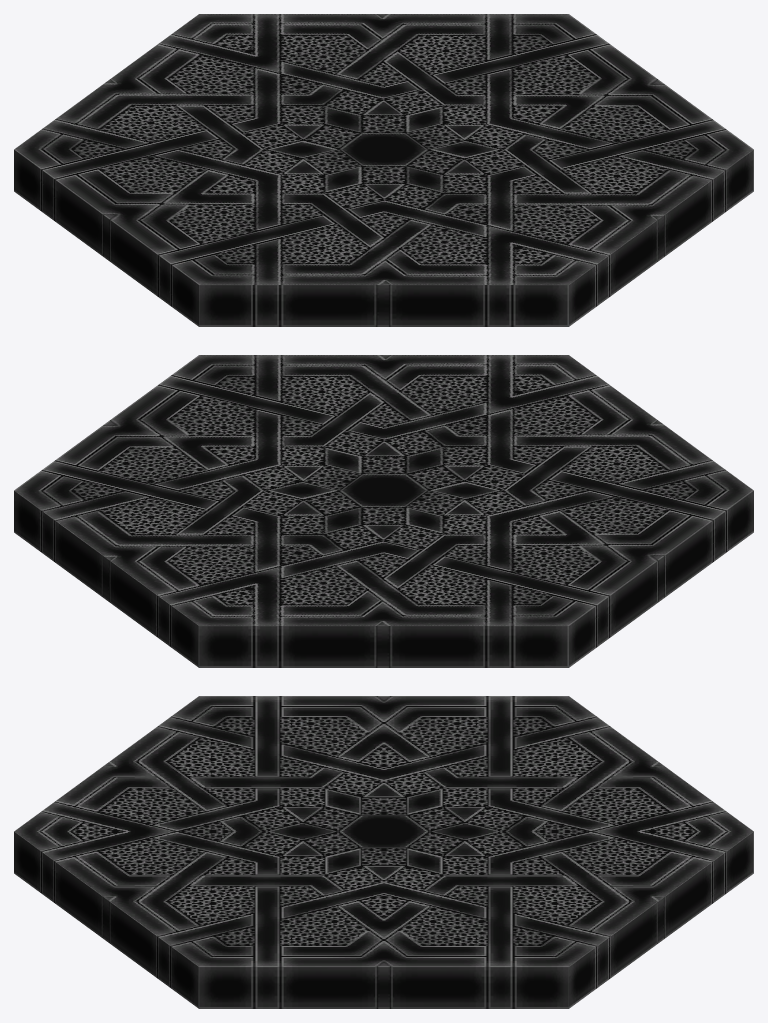
The model's file is NPSpacePanel.gltf.
The picture shows the model from 3 angles, top to bottom: view 1: azimuth 30°, elevation 25°; view 2: azimuth 150°, elevation 25°; view 3: azimuth 270°, elevation 25°; orthographic projection.
Visible parts, largest first — view 1: SpacePanel; view 2: SpacePanel; view 3: SpacePanel.
Boxes of the visible parts, bbox=[...] form: SpacePanel: bbox=[14, 14, 753, 326]; SpacePanel: bbox=[14, 355, 753, 667]; SpacePanel: bbox=[14, 696, 753, 1008].
Bounding box in the file's own units: 6.93 × 0.5 × 8.
1 material, 1 textured.
